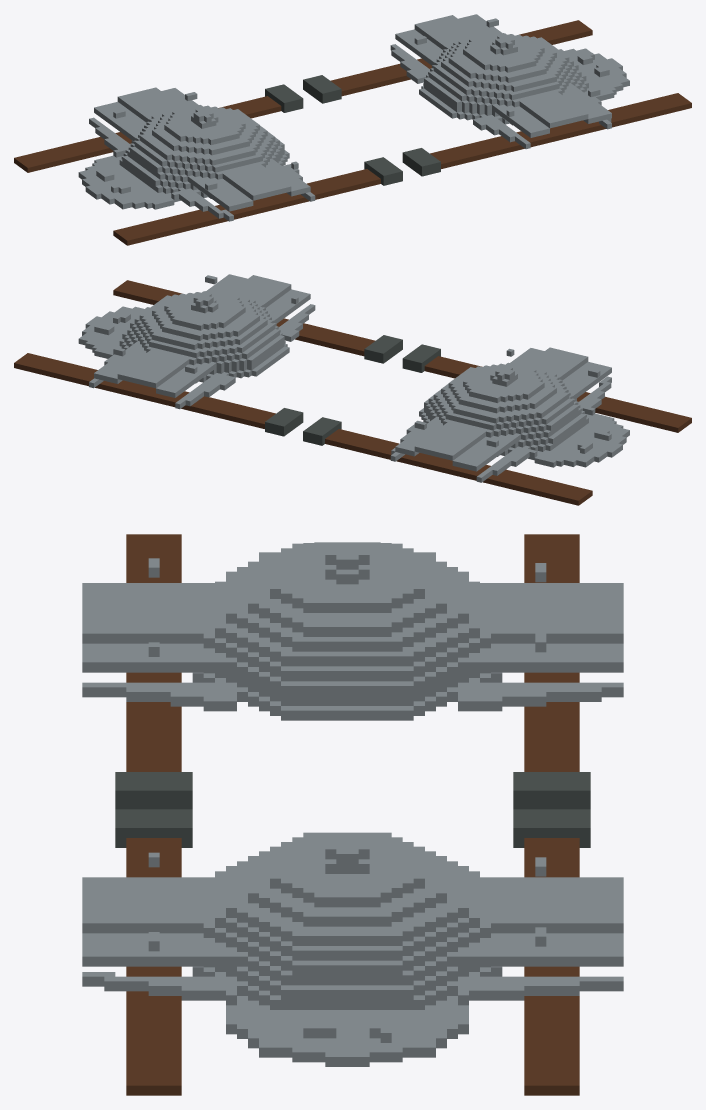
The model's file is mc_knee_guards.glb.
3 renders of one model, top to bottom at view 1: azimuth 30°, elevation 25°; view 2: azimuth 150°, elevation 25°; view 3: azimuth 270°, elevation 25°, orthographic. The views are drawn at different scales.
Parts seen in each view (by area): view 1: mc_knee_guards:compound; view 2: mc_knee_guards:compound; view 3: mc_knee_guards:compound.
Boxes of the visible parts, left/top/right/bottom form: mc_knee_guards:compound: left=14, top=14, right=691, bottom=245; mc_knee_guards:compound: left=14, top=274, right=691, bottom=505; mc_knee_guards:compound: left=82, top=534, right=623, bottom=1095.
Bounding box in the file's own units: 0.472 × 0.048 × 0.196.
